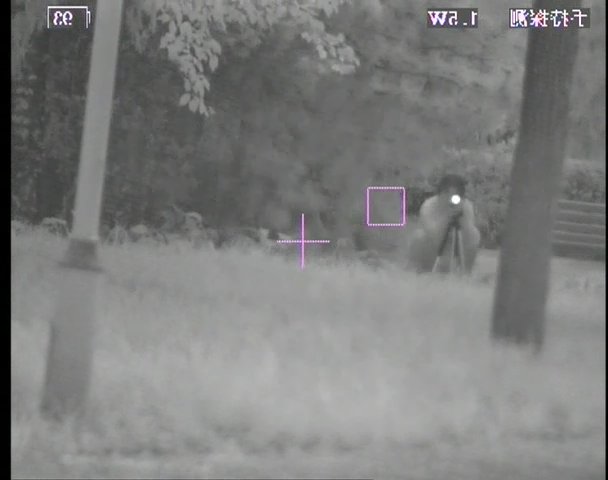my: (450, 193, 463, 206)
